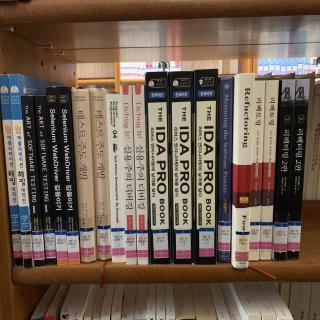book-spine: (229, 72, 255, 269), (192, 68, 218, 264), (145, 72, 171, 265), (9, 73, 34, 268), (170, 71, 194, 264), (271, 79, 296, 260), (0, 74, 23, 267), (71, 88, 96, 263), (286, 79, 310, 260), (20, 95, 45, 267), (45, 86, 69, 265), (57, 86, 80, 265), (34, 95, 57, 266), (259, 80, 279, 260), (90, 90, 111, 261), (106, 93, 126, 262), (248, 80, 265, 261), (132, 85, 149, 265), (120, 85, 137, 264), (217, 76, 232, 263)
